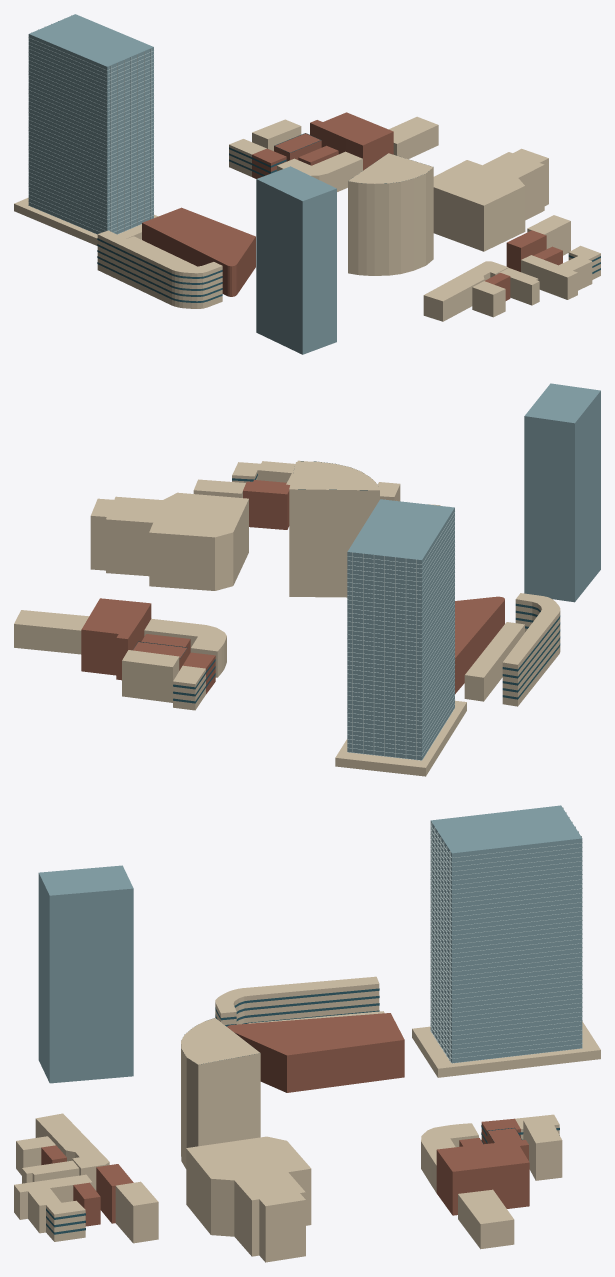
Rendered from city_-3_-3.glb.
3 renders of one model, top to bottom at view 1: azimuth 30°, elevation 25°; view 2: azimuth 150°, elevation 25°; view 3: azimuth 270°, elevation 25°, orthographic. The views are drawn at different scales.
Parts seen in each view (by area): view 1: city_-3_-3; view 2: city_-3_-3; view 3: city_-3_-3.
Boxes of the visible parts, x1=… form: city_-3_-3: x1=14, y1=14, x2=600, y2=354; city_-3_-3: x1=14, y1=383, x2=600, y2=776; city_-3_-3: x1=14, y1=805, x2=600, y2=1262.
Bounding box in the file's own units: 284 × 119 × 289.
